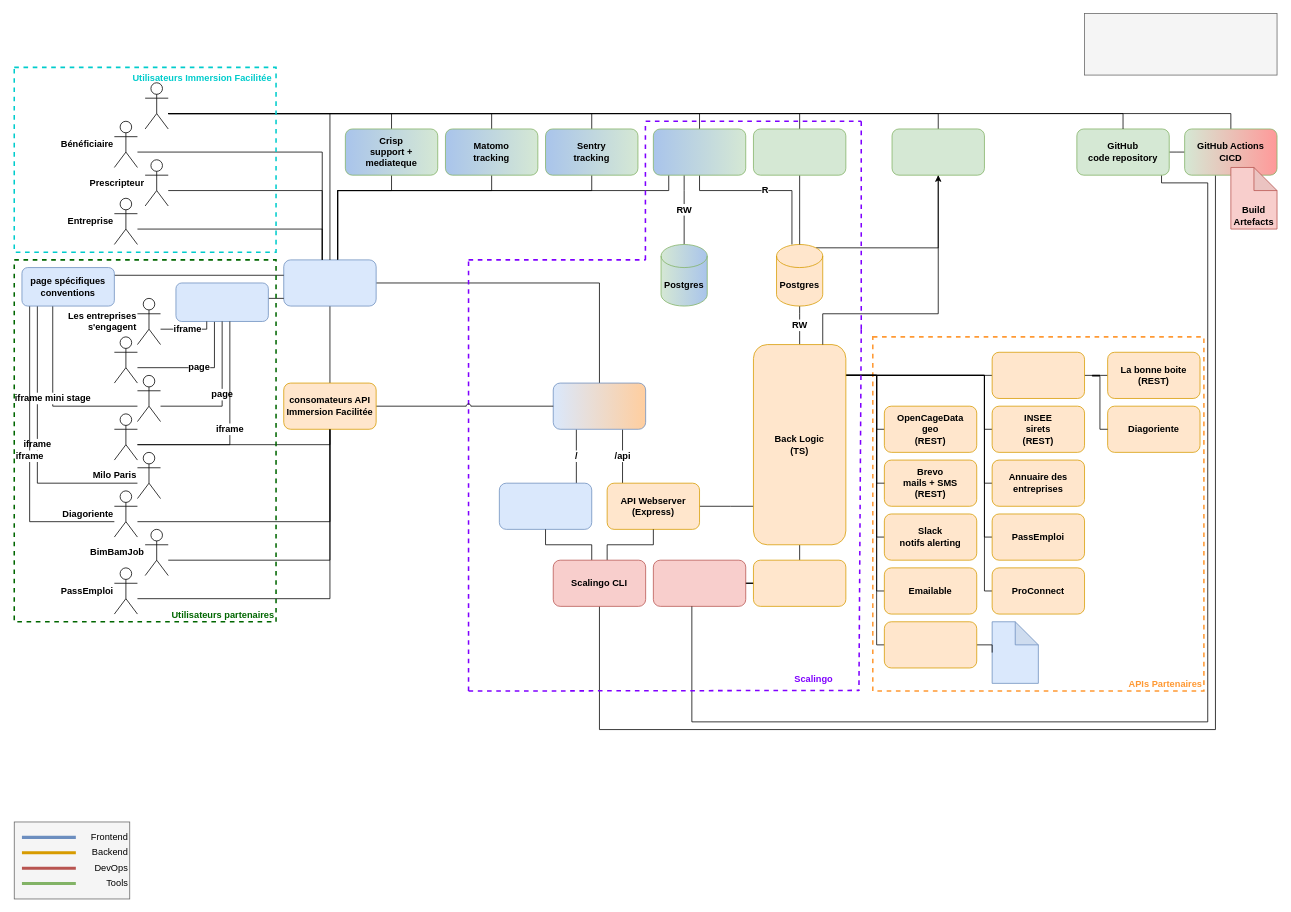
This 1291x912 diagram has some shape labels left out. Here are the shapes that lost their labels. From the top down, the centre of each, then its label:
point (1180, 44): Immersion Facilitée Architecture applicative 03/04/2025
point (156, 105): Admin Immersion Facilitée
point (699, 151): Metabase data / query dashboards
point (799, 151): Adminer DB admin
point (937, 151): Datadog
point (221, 301): pages spécifiques établissements
point (329, 282): User Agent WebClient (React SPA / Router / TS)
point (125, 359): CMA
point (1038, 375): Pole Emploi dont PeConnect (REST)
point (149, 398): CCI
point (599, 405): Reverse proxy NGINX
point (125, 436): un jeune une solution
point (545, 505): Front Build Static (Vite)
point (699, 582): Scalingo cron
point (799, 582): Scripts (TS)
point (930, 644): Clever Cloud S3 Bucket
point (1014, 652): Front Email assets
